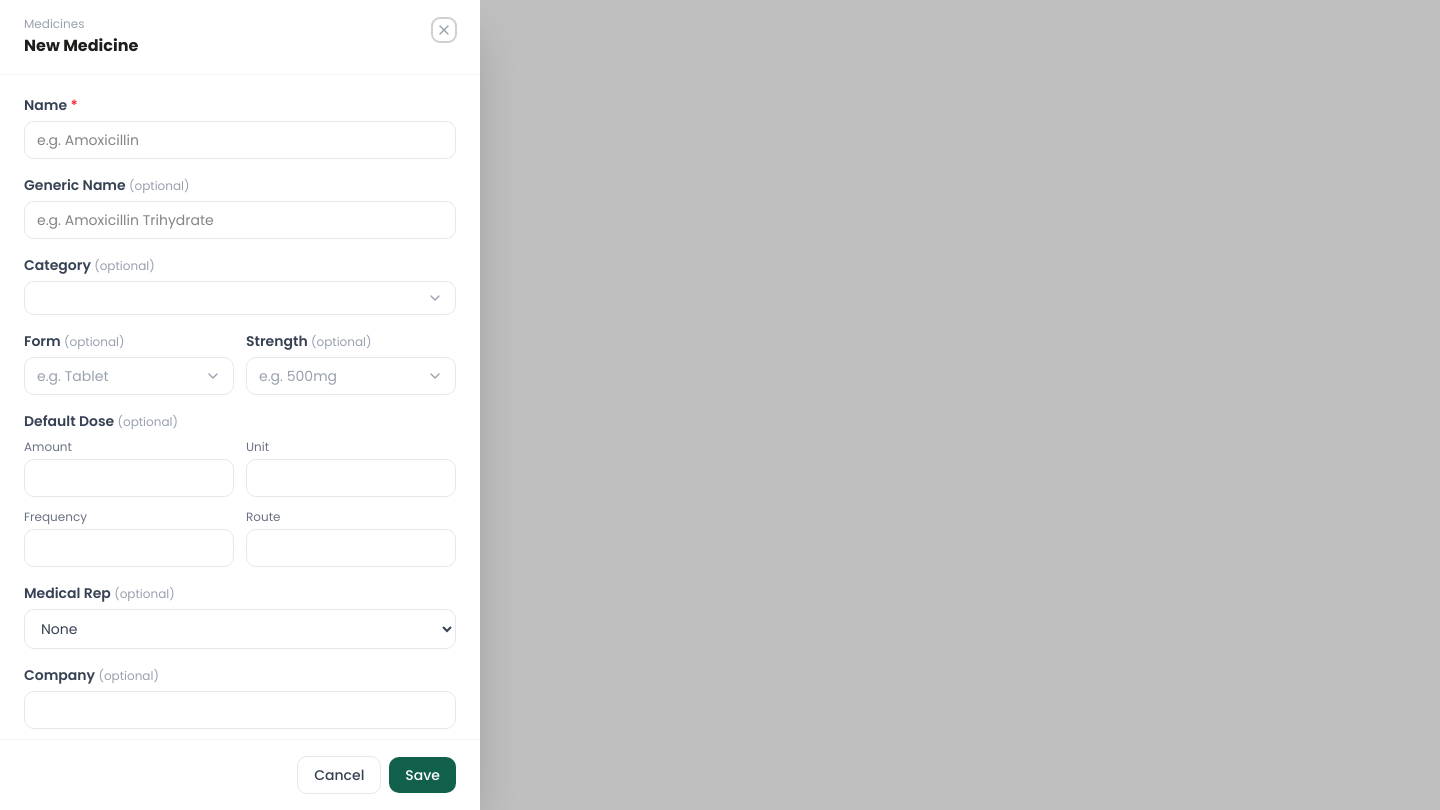
Scenario: MedicationDrawer › blocks submission and shows a validation error when the name is empty
Click the button "Save": (423, 775) [389,757,456,793]
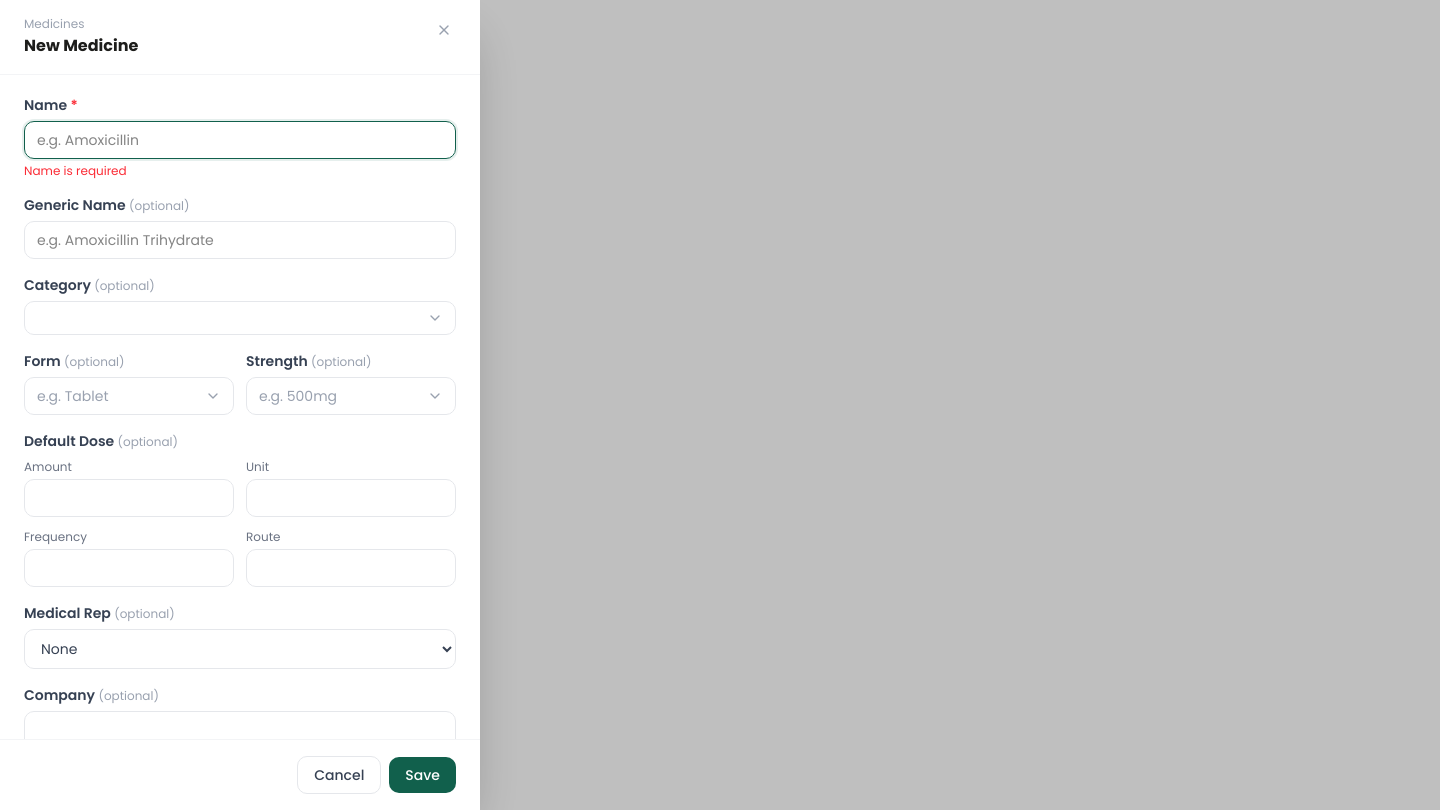
Check: the text "Name is required" is shown, box [24,162,127,179]
